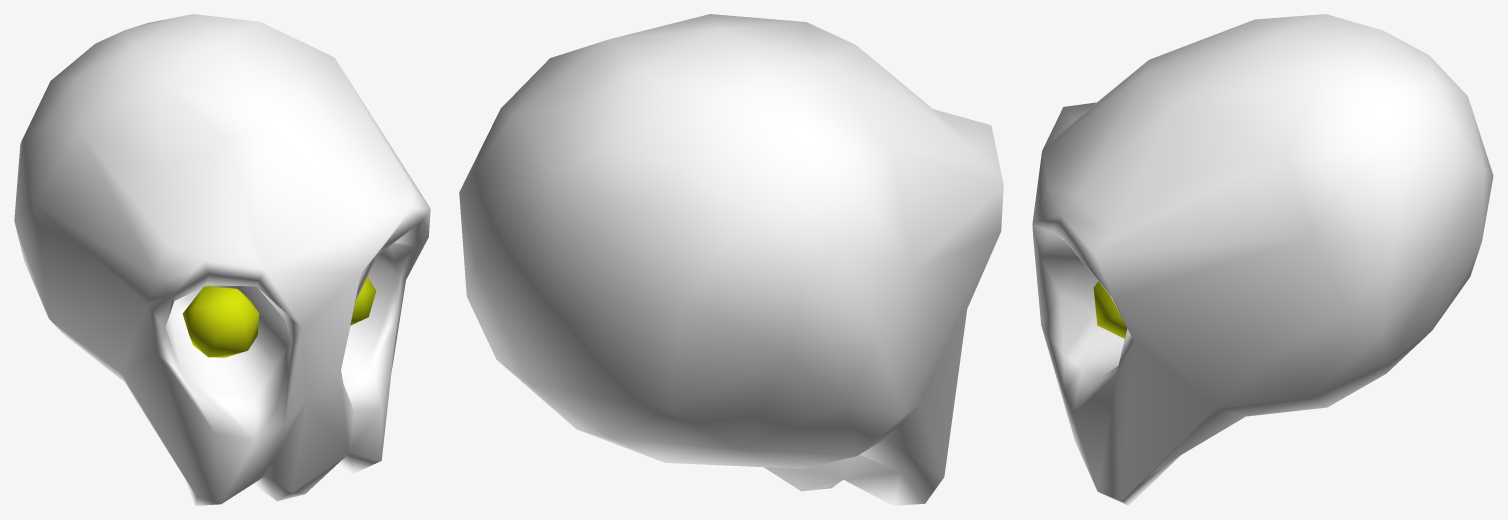
Rendered from Craneo.obj.
The picture shows the model from 3 angles, left to right: view 1: azimuth 30°, elevation 25°; view 2: azimuth 150°, elevation 25°; view 3: azimuth 270°, elevation 25°; orthographic projection. The views are drawn at different scales.
Parts seen in each view (by area): view 1: Sphere_1; view 2: Sphere_1; view 3: Sphere_1.
Part boxes in pixels (x1=…): Sphere_1: x1=14, y1=14, x2=430, y2=505; Sphere_1: x1=459, y1=14, x2=1003, y2=505; Sphere_1: x1=1032, y1=14, x2=1493, y2=505.
Size of the model in its own units: 0.7025 by 0.8278 by 0.7964.
1 material, 1 textured.
